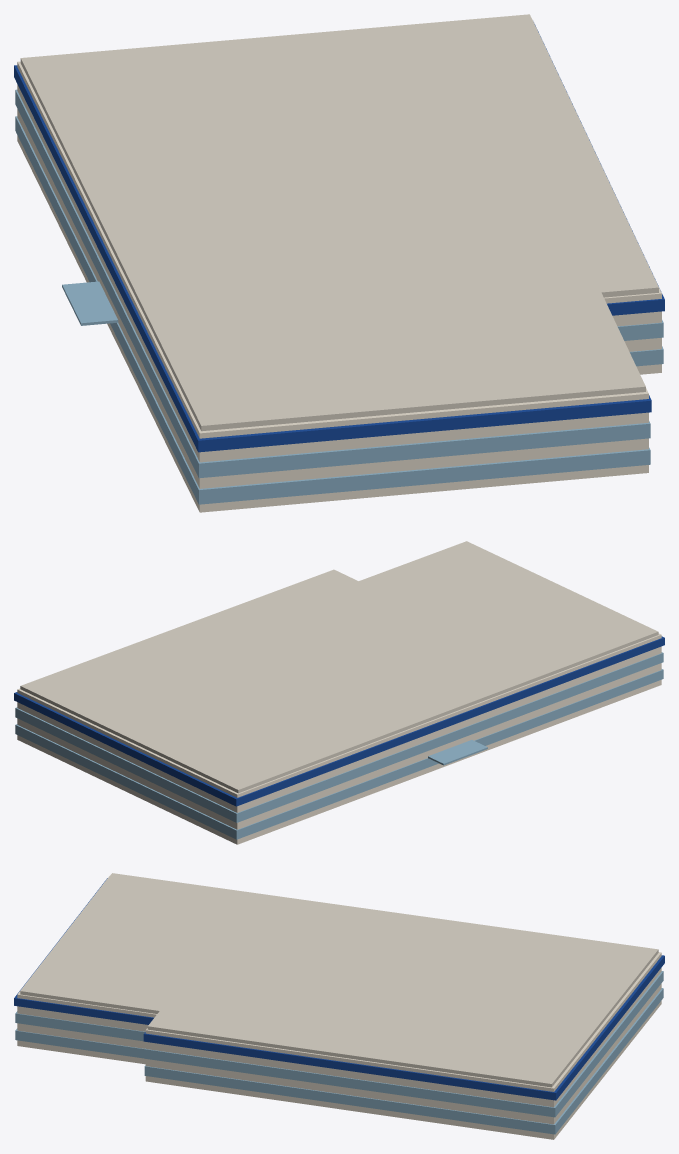
File: ocean_hlaingtharyar.glb
3 views of the same model, one above another, from view 1: azimuth 30°, elevation 25°; view 2: azimuth 150°, elevation 25°; view 3: azimuth 270°, elevation 25° (orthographic). The views are drawn at different scales.
Parts seen in each view (by area): view 1: part; view 2: part; view 3: part.
Boxes of the visible parts, x1,y1,x2,y2 form: part: (14, 14, 664, 512); part: (14, 541, 664, 844); part: (14, 873, 664, 1139).
Bounding box in the file's own units: 4420450 × 524130 × 5649397.
